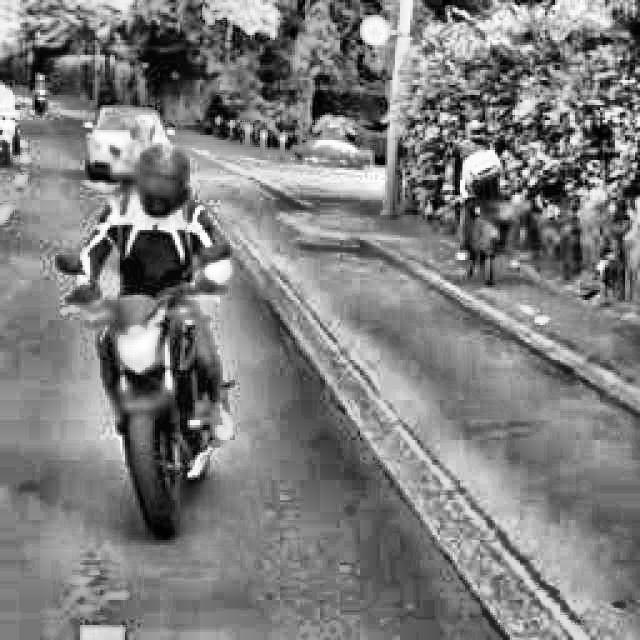bike: (440, 142, 522, 280)
motorcycle: (39, 235, 283, 548)
